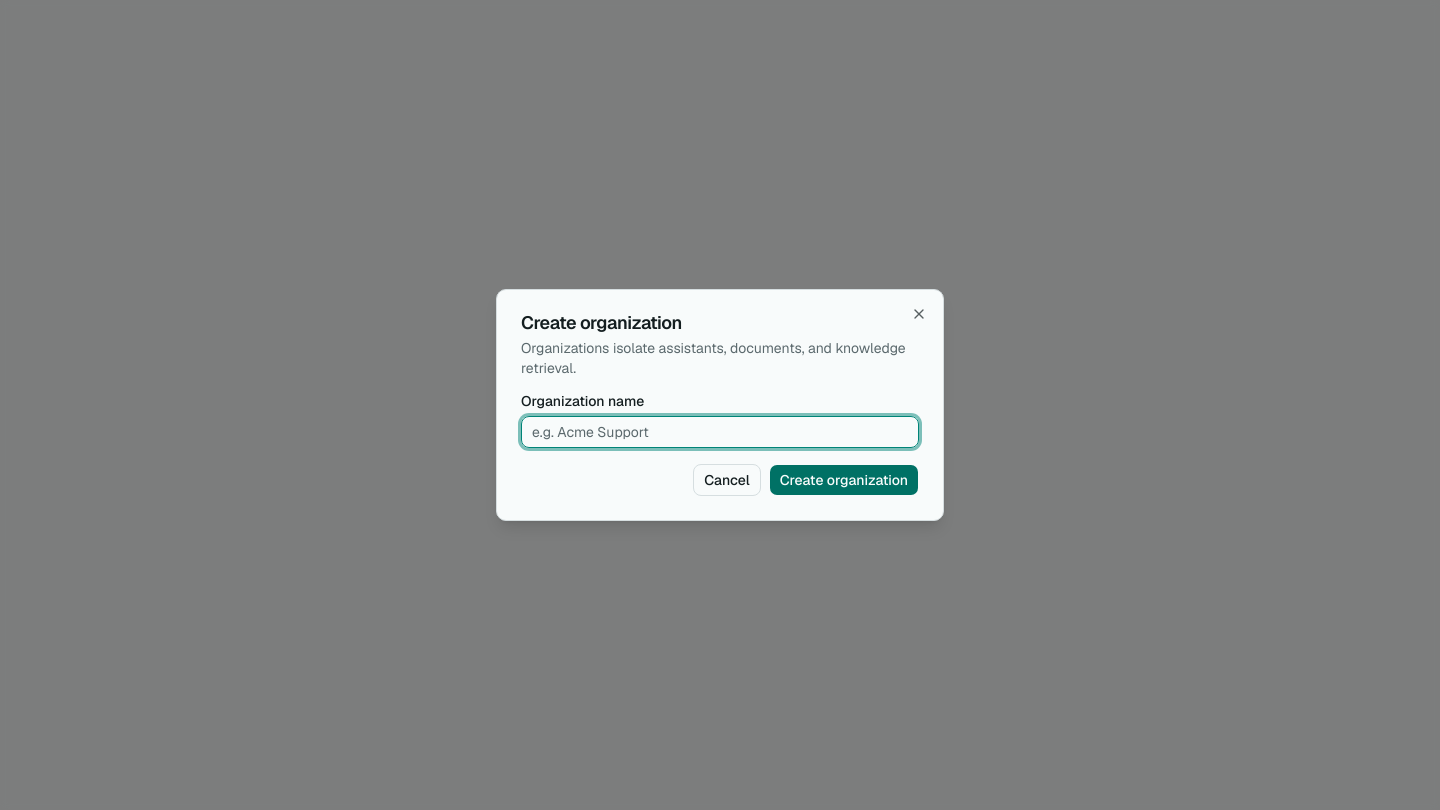
Scenario: CreateOrganizationDialog › displays server error message on failure
In the field labelled "Organization name": (720, 432) [521,416,919,448], type "Acme Cloud"
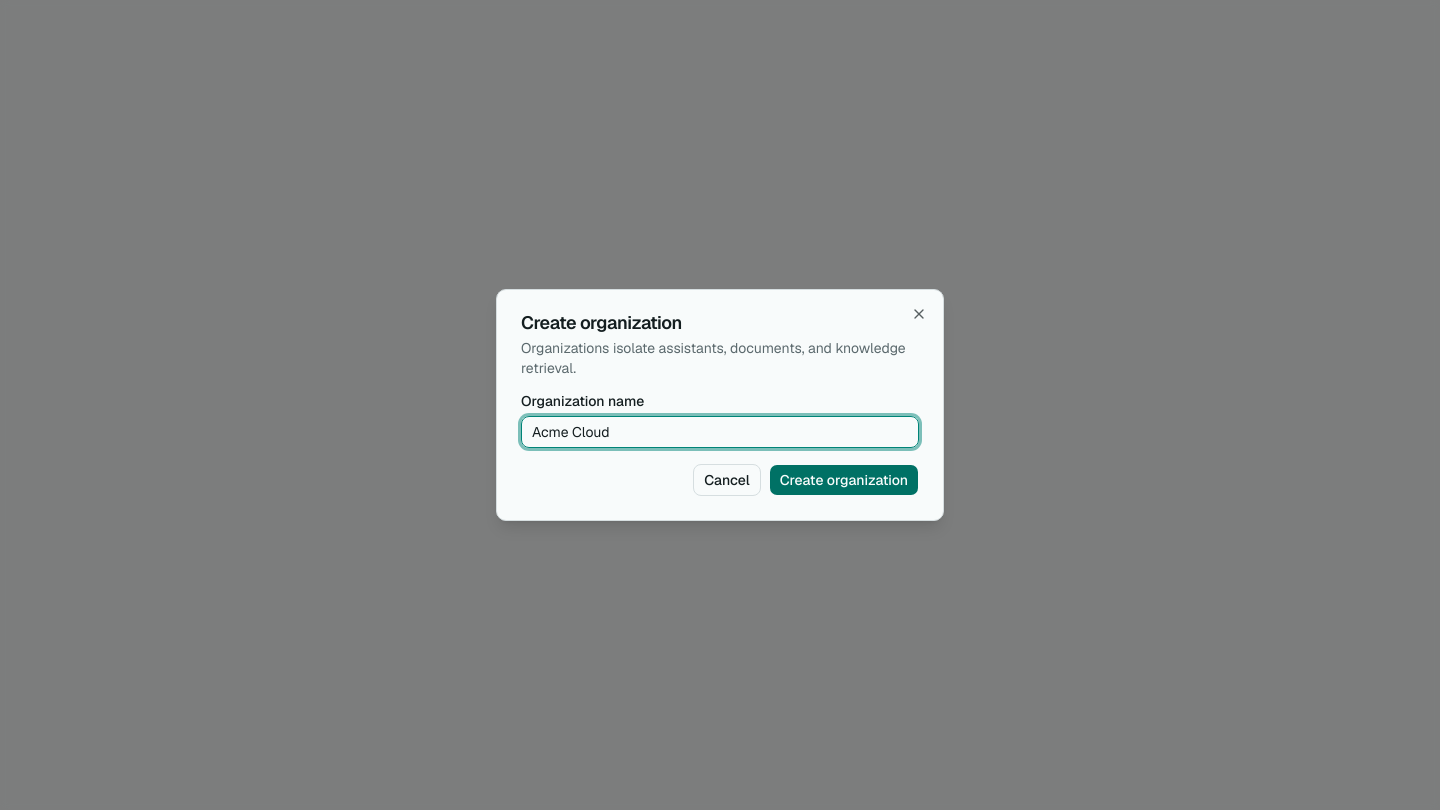
Click the button "Create organization": (844, 480) [769,464,919,496]
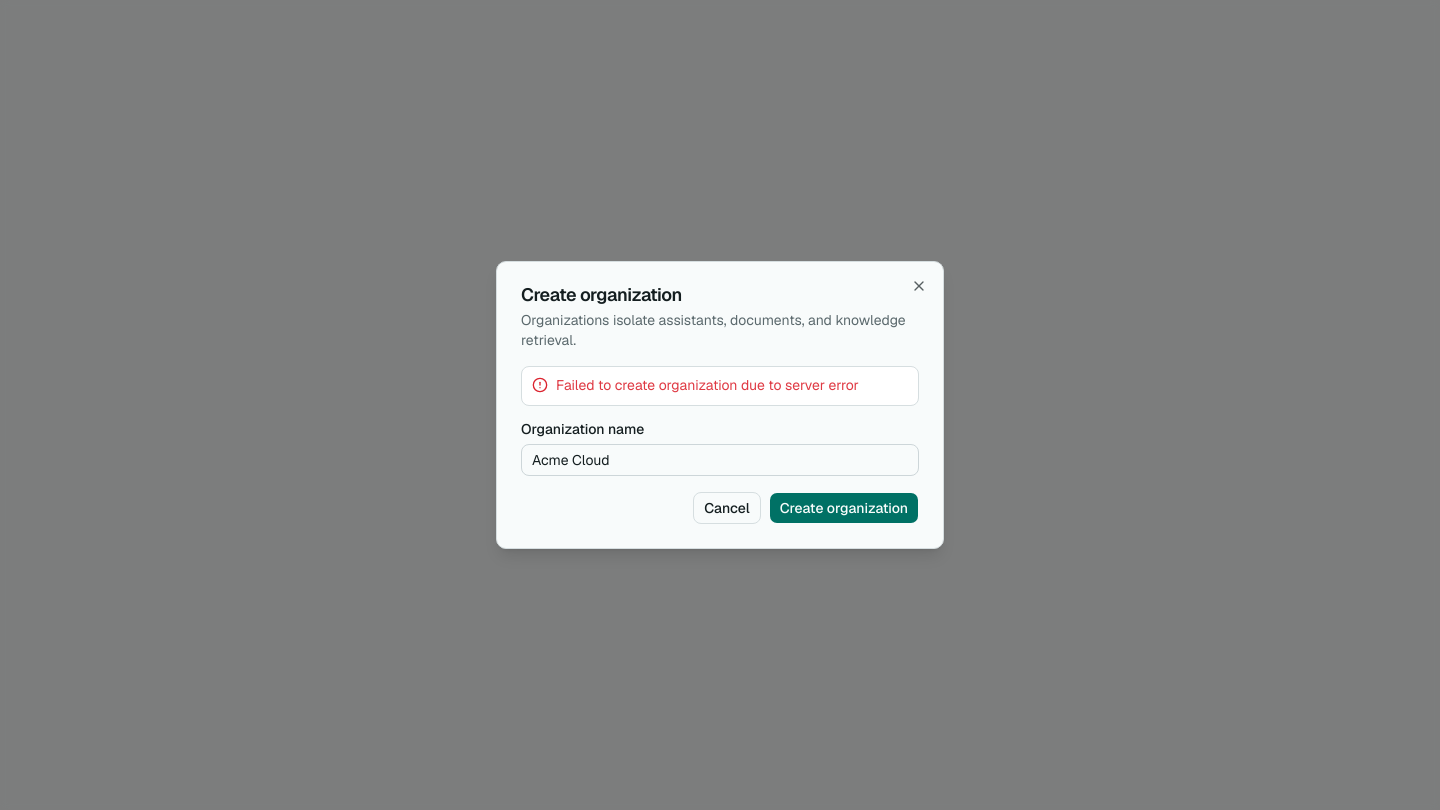
Expected: the text "Failed to create organization due to server error" is shown, [556,375,908,395]
